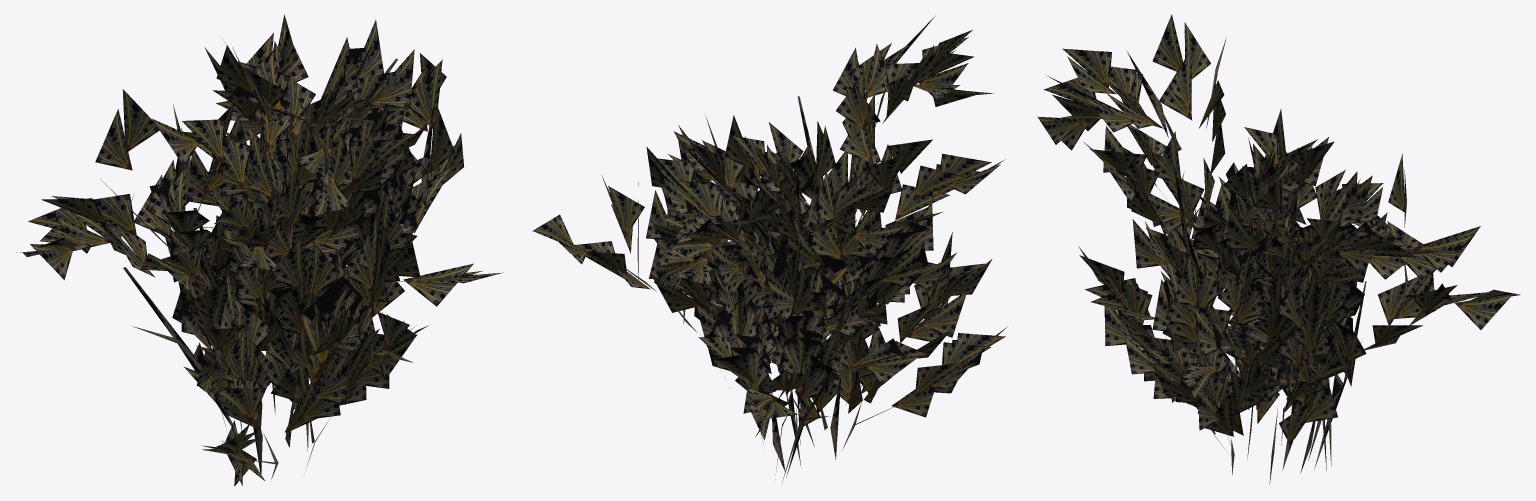
File: bruyere.glb
3 renders of one model, left to right at view 1: azimuth 30°, elevation 25°; view 2: azimuth 150°, elevation 25°; view 3: azimuth 270°, elevation 25°, orthographic. The views are drawn at different scales.
Visible parts, largest first — view 1: wild_rooibos_bush_c, wild_rooibos_bush_d, wild_rooibos_bush_e; view 2: wild_rooibos_bush_c, wild_rooibos_bush_d, wild_rooibos_bush_e; view 3: wild_rooibos_bush_c, wild_rooibos_bush_d, wild_rooibos_bush_e.
Boxes of the visible parts, left/top/right/bottom form: wild_rooibos_bush_c: left=16, top=14, right=464, bottom=474; wild_rooibos_bush_d: left=141, top=20, right=502, bottom=486; wild_rooibos_bush_e: left=155, top=111, right=422, bottom=430; wild_rooibos_bush_c: left=533, top=15, right=1005, bottom=477; wild_rooibos_bush_d: left=646, top=116, right=1007, bottom=450; wild_rooibos_bush_e: left=654, top=152, right=929, bottom=482; wild_rooibos_bush_c: left=1037, top=14, right=1520, bottom=484; wild_rooibos_bush_d: left=1078, top=144, right=1480, bottom=475; wild_rooibos_bush_e: left=1192, top=162, right=1366, bottom=473.
Size of the model in its own units: 0.4164 by 0.4385 by 0.4608.
Materials: 1 (1 with a texture image).
